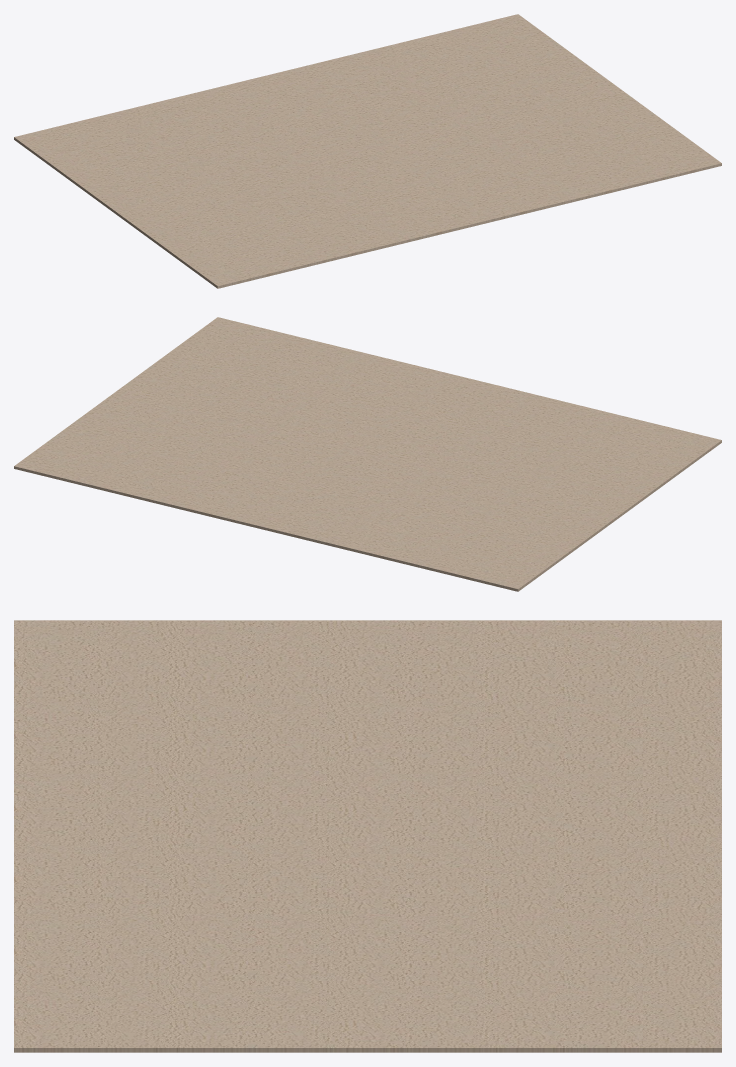
Rendered from alfombra_pelo_largo_140x200.glb.
The picture shows the model from 3 angles, top to bottom: view 1: azimuth 30°, elevation 25°; view 2: azimuth 150°, elevation 25°; view 3: azimuth 270°, elevation 25°; orthographic projection. The views are drawn at different scales.
Visible parts, largest first — view 1: alfombra_pelo_largo_140x200; view 2: alfombra_pelo_largo_140x200; view 3: alfombra_pelo_largo_140x200.
Part boxes in pixels (<box>): alfombra_pelo_largo_140x200: <box>14,14,721,288</box>; alfombra_pelo_largo_140x200: <box>14,317,721,591</box>; alfombra_pelo_largo_140x200: <box>14,620,721,1052</box>.
Size of the model in its own units: 2 by 0.01 by 1.4.
Materials: 1 (1 with a texture image).
